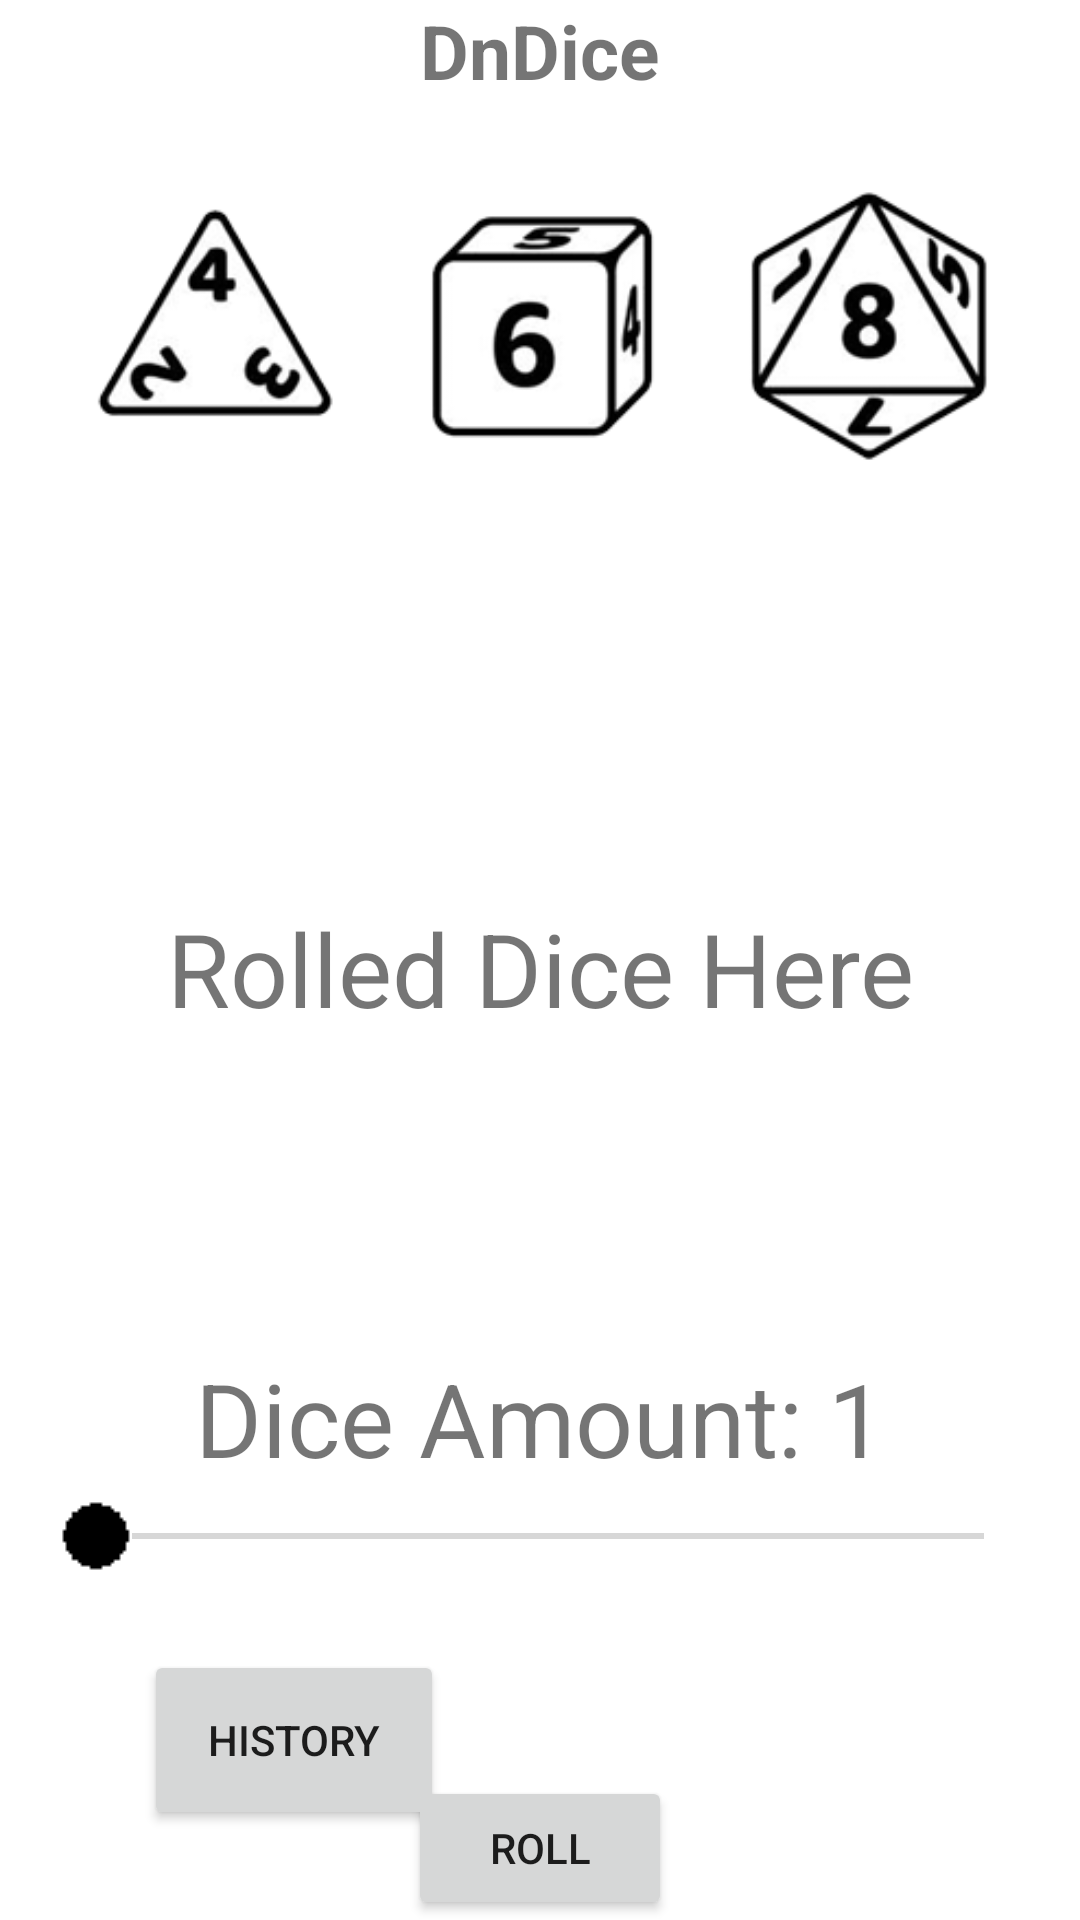

Icon click points for this 1080px x 1920px phone screenshot, format [x,y]:
cube: [542,327]
octahedron: [869,326]
tetrahedron: [215,312]
